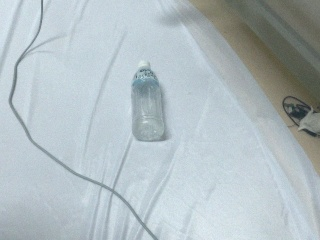bottle: (129, 59, 168, 143)
